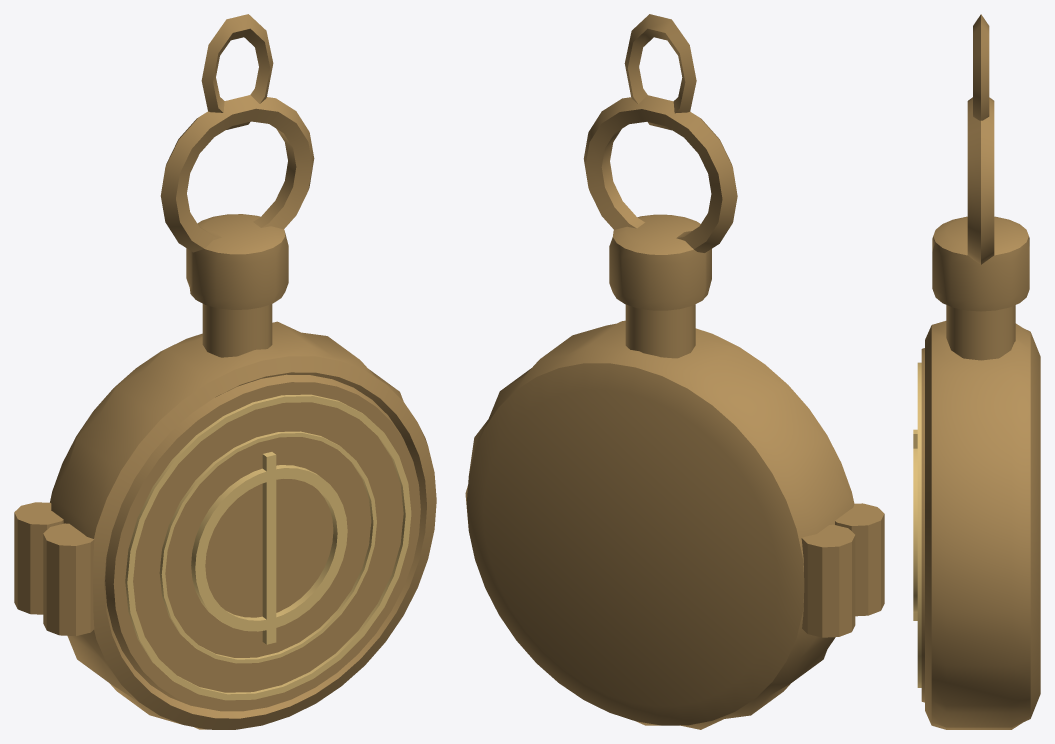
The model's file is pocket_watch.glb.
3 views of the same model, side by side, from view 1: azimuth 30°, elevation 25°; view 2: azimuth 150°, elevation 25°; view 3: azimuth 270°, elevation 25° (orthographic).
Visible parts, largest first — view 1: pocket_watch; view 2: pocket_watch; view 3: pocket_watch.
Boxes of the visible parts, <box> form: pocket_watch: <box>14,14,436,729</box>; pocket_watch: <box>465,14,884,729</box>; pocket_watch: <box>913,14,1040,729</box>.
Bounding box in the file's own units: 0.0536 × 0.0927 × 0.0154.
